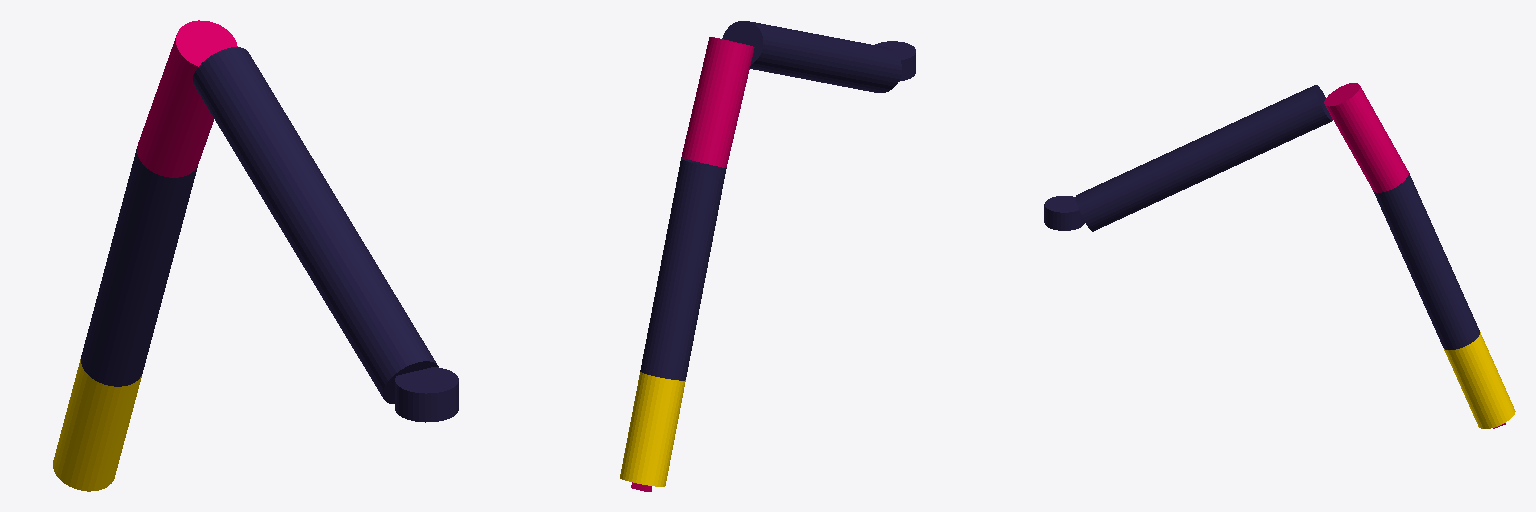
The robot description file, URDF, robot "crab":
<?xml version="1.0"?>
<robot name ="crab">


    <link name="base_link">
    </link>
    <!-- COXA JOINT AND LINK-->

    <joint name="coxa_joint" type="revolute">
        <origin xyz="0 0 0" rpy="0.0 0.0 0.0"/>
        <parent link="base_link"/>
        <child link="coxa_link"/>
        <limit effort="250.0" velocity="10.0" lower="-3.14" upper="3.14" />
        <axis xyz="0 0 1"/>
    </joint>

    <link name="coxa_link">
        <visual>
            <origin xyz="0 0 0" rpy=" 0.0 0.0 0.0"/>
            <geometry>
                <cylinder length="0.015" radius="0.015"/>
            </geometry>
            <material name="blue"/>
        </visual>
    </link>


    <!-- MERUS JOINT AND JOINT-->
    <joint name="merus_joint" type="revolute">
        <origin xyz="0 0.015 0" rpy="-1.1 0.0 0.0"/>
        <parent link="coxa_link"/>
        <child link="merus_link"/>
        <limit effort="250.0" velocity="10.0" lower="-3.14" upper="3.14" />            
        <axis xyz="1 0 0"/>
    </joint>

    <link name="merus_link">
        <visual>
            <origin xyz="0.0 0.0 0.1" rpy="0.0 0.0 0.0"/>
            <geometry>
                <cylinder length="0.2" radius="0.015"/>
            </geometry>
            <material name="blue"/>
        </visual>
    </link>     


    <!-- CARPUS JOINT AND LINK-->

    <joint name="carpus_joint" type="revolute">
        <origin xyz="0 0 0.215" rpy="-1.57 0.0 0.0"/>
        <parent link="merus_link"/>
        <child link="carpus_link"/>
        <limit effort="250.0" velocity="10.0" lower="-3.14" upper="3.14" />
        <axis xyz="1 0 0"/>
    </joint>

    <link name="carpus_link">
        <visual>
            <origin xyz="0 0 0.04" rpy="0.0 0.0 0.0"/>
            <geometry>
                <cylinder length="0.08" radius = "0.015"/>
            </geometry>
            <material name="pink"/>
        </visual> 
    </link>


    <!-- MANUS JOINT AND LINK -->
    <joint name="manus_joint" type="revolute">
        <origin xyz="0 0 0.08" rpy="-0.087 0.0 0.0"/>
        <parent link="carpus_link"/>
        <child link="manus_link"/>
        <limit effort="250.0" velocity="10.0" lower="-3.14" upper="3.14" />
        <axis xyz="0 1 0"/>
    </joint>

    <link name="manus_link">
        <visual>
            <origin xyz="0.0 0.0 0.07" rpy="0.0 0.0 0.0"/>
            <geometry>
                <cylinder length="0.14" radius = "0.015"/>
            </geometry>
            <material name="blue"/>
        </visual>
    </link>



    <!-- DACTYL JOINT AND LINK-->

    <joint name="dactyl_joint" type="fixed">
        <origin xyz="0.0 0.0 0.14" rpy="0.0 0.0 0.0"/>
        <parent link="manus_link"/>
        <child link="dactyl_link"/>
    </joint>


    <link name="dactyl_link">
        <visual>
            <origin xyz="0 0 0.035" rpy="0.0 0.0 0.0"/>
            <geometry>
                <cylinder length="0.07" radius = "0.015"/>
            </geometry>
            <material name="yellow"/>
        </visual>
    </link>


    <joint name="end" type="fixed">
        <parent link="dactyl_link"/>
        <child link="end_link"/>
        <origin rpy="0 0 0" xyz="0 0 0.07"/>
    </joint>

    <link name="end_link">
        <visual>
            <geometry>
                <box size="0.01 0.01 0.01" />
            </geometry>
            <origin rpy="0.0 0.0 0" xyz="0.0 0.0 0.0"/>
            <material name="pink"/>
        </visual>
    </link>  
    

    <material name="yellow">
        <color rgba="1 0.83 0 1"/>
    </material>
    
    <material name="blue">
        <color rgba="0.18 0.16 0.31 1"/>
    </material>
    
    <material name="pink">
        <color rgba="0.85 0.01 0.41 1"/>
    </material>
    
    <material name="purple">
        <color rgba="0.51 0.01 0.39 1"/>
    </material>


</robot>

--- What the picture shows (computed from the rendered views, not written in the file) ---
The picture shows the robot from 3 angles, left to right: view 1: azimuth 30°, elevation 25°; view 2: azimuth 150°, elevation 25°; view 3: azimuth 270°, elevation 25°; orthographic projection.
Robot: crab — 7 links, 6 joints (4 revolute, 2 fixed); root link base_link; default pose: all joints at 0.
Links seen in each view (by area): view 1: merus_link, manus_link, carpus_link, dactyl_link, coxa_link; view 2: manus_link, merus_link, carpus_link, dactyl_link, coxa_link; view 3: merus_link, manus_link, carpus_link, dactyl_link, coxa_link.
Link boxes in pixels (left/top/right/bottom): merus_link: left=193, top=47, right=438, bottom=403; manus_link: left=81, top=149, right=197, bottom=386; carpus_link: left=137, top=20, right=237, bottom=177; dactyl_link: left=53, top=359, right=141, bottom=491; coxa_link: left=395, top=367, right=458, bottom=422; manus_link: left=640, top=158, right=726, bottom=380; merus_link: left=722, top=21, right=901, bottom=92; carpus_link: left=681, top=37, right=754, bottom=167; dactyl_link: left=620, top=372, right=685, bottom=486; coxa_link: left=875, top=41, right=915, bottom=81; merus_link: left=1076, top=85, right=1332, bottom=231; manus_link: left=1373, top=173, right=1479, bottom=349; carpus_link: left=1324, top=83, right=1408, bottom=192; dactyl_link: left=1444, top=332, right=1515, bottom=428; coxa_link: left=1044, top=196, right=1084, bottom=230.
Size in the robot's own frame: 0.03 by 0.3506 by 0.2793 metres.
Geometry: primitives only (box / cylinder / sphere), no mesh files.